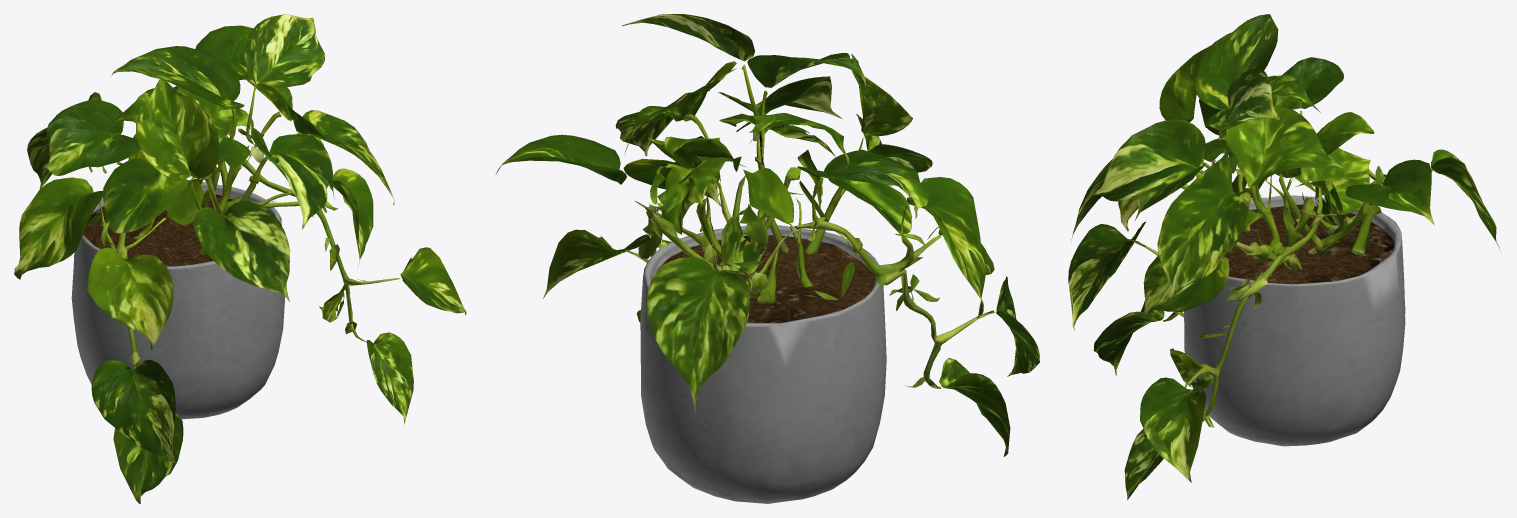
The model's file is mobile.glb.
3 renders of one model, left to right at view 1: azimuth 30°, elevation 25°; view 2: azimuth 150°, elevation 25°; view 3: azimuth 270°, elevation 25°, orthographic. The views are drawn at different scales.
Visible parts, largest first — view 1: smallplant; view 2: smallplant; view 3: smallplant.
Part boxes in pixels (x1,y1,x2,y2): smallplant: (14,14,466,503); smallplant: (496,14,1039,503); smallplant: (1068,14,1500,499).
Bounding box in the file's own units: 0.3388 × 0.3 × 0.2927.
Materials: 1 (1 with a texture image).
